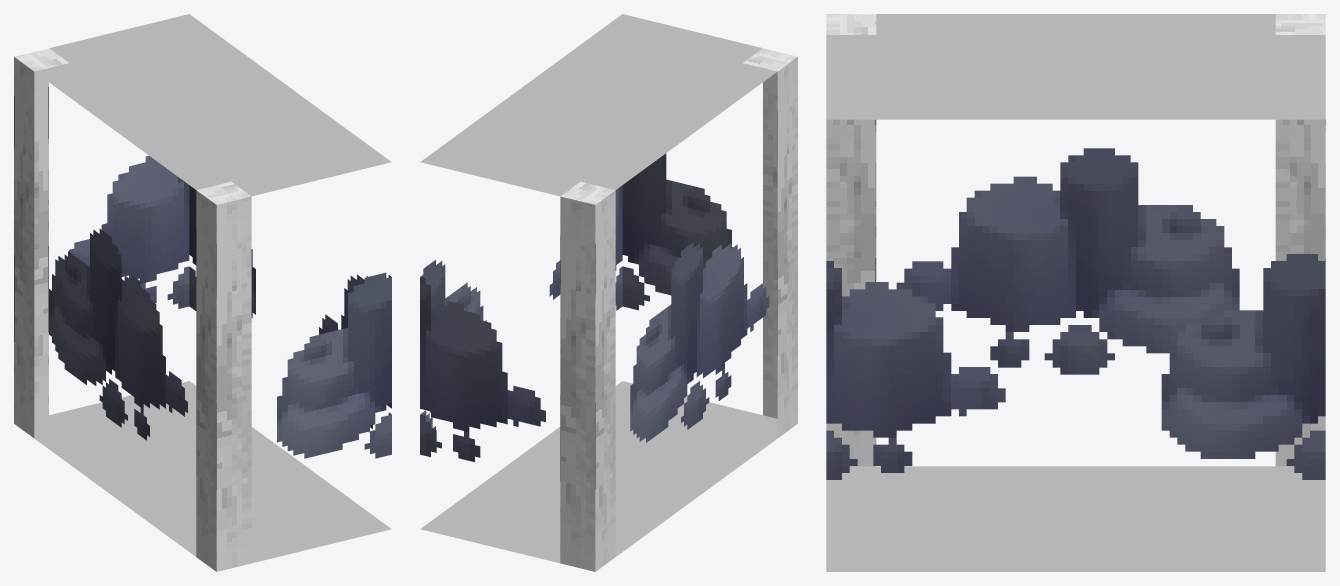
File: wallFortified_half.dae
The picture shows the model from 3 angles, left to right: view 1: azimuth 30°, elevation 25°; view 2: azimuth 150°, elevation 25°; view 3: azimuth 270°, elevation 25°; orthographic projection. The views are drawn at different scales.
Visible parts, largest first — view 1: wallFortified_half; view 2: wallFortified_half; view 3: wallFortified_half.
Part boxes in pixels (x1=…): wallFortified_half: x1=14, y1=14, x2=391, y2=571; wallFortified_half: x1=420, y1=14, x2=797, y2=571; wallFortified_half: x1=826, y1=14, x2=1325, y2=571.
Bounding box in the file's own units: 0.5 × 1 × 1.
